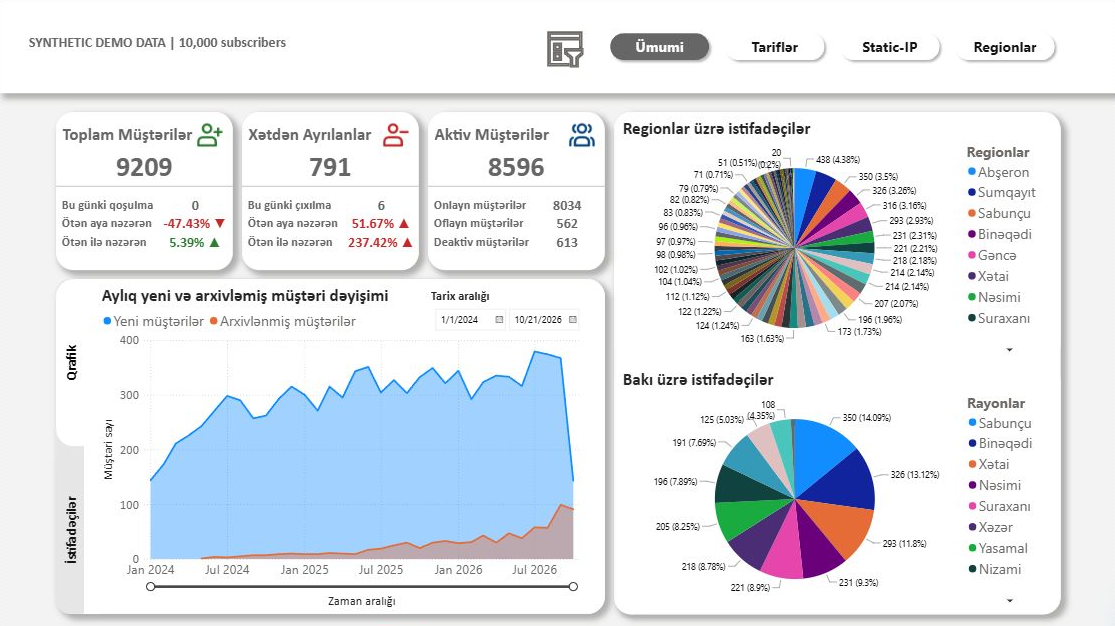

The dashboard page shown, as its layout file describes it:
{"tool":"powerbi","page":{"name":"Ümumi","canvas":[1920,1080],"ordinal":0},"visuals":[{"type":"group","id":"g1","title":"Ribbon","box":[0,0,1920,160],"z":0},{"type":"shape","box":[0,0,1920,160],"z":0,"group":"g1"},{"type":"shape","title":"Toplam Müştərilər","box":[96,192,304,272],"z":0,"group":"g3"},{"type":"shape","title":"Xətdən Ayrılanlar","box":[416,192,304,272],"z":0,"group":"g4"},{"type":"shape","title":"Aktiv Müştərilər","box":[736,192,304,272],"z":0,"group":"g8"},{"type":"shape","box":[1056,192,768,864],"z":0,"group":"g2"},{"type":"shape","box":[96,336,176,32],"z":0,"group":"g5"},{"type":"shape","box":[416,336,176,32],"z":0,"group":"g6"},{"type":"shape","box":[736,336,176,32],"z":0,"group":"g7"},{"type":"shape","box":[96,368,176,32],"z":0,"group":"g9"},{"type":"shape","box":[416,368,176,32],"z":0,"group":"g10"},{"type":"shape","box":[736,368,176,32],"z":0,"group":"g11"},{"type":"card","fields":{"Values":["Calendar.vs_last_year_KPI"]},"box":[272,400,128,32],"z":0,"group":"g12"},{"type":"card","fields":{"Values":["Calendar.vs_last_year_archive_KPI"]},"box":[592,400,128,32],"z":0,"group":"g13"},{"type":"shape","box":[736,400,176,32],"z":0,"group":"g14"},{"type":"lineChart","title":"Aylıq yeni və arxivləmiş müştəri dəyişimi","fields":{"Category":["Calendar.Date.Variation.Date Hierarchy.Year","Calendar.Date.Variation.Date Hierarchy.Month"],"Y":["Calendar.new_customers","Calendar.archived_users"]},"box":[160,480,880,576],"z":0,"group":"g15"},{"type":"pieChart","title":"Regionlar üzrə istifadəçilər","fields":{"Category":["butun_musteriler.combined_regions"],"Y":["Calendar.total_new_customers"]},"box":[1056,192,768,432],"z":1000,"group":"g2"},{"type":"group","id":"g2","title":"Regionlar","box":[1056,192,768,864],"z":1000},{"type":"shape","box":[96,304,304,32],"z":1000,"group":"g3"},{"type":"shape","box":[416,304,304,32],"z":1000,"group":"g4"},{"type":"shape","box":[736,304,304,32],"z":1000,"group":"g8"},{"type":"card","fields":{"Values":["Calendar.today_new_customer"]},"box":[272,336,128,32],"z":1000,"group":"g5"},{"type":"card","fields":{"Values":["Calendar.today_old_customer"]},"box":[592,336,128,32],"z":1000,"group":"g6"},{"type":"card","fields":{"Values":["Calendar.total_active_customers"]},"box":[912,336,128,32],"z":1000,"group":"g7"},{"type":"card","fields":{"Values":["Calendar.vs_last_month_KPI"]},"box":[272,368,128,32],"z":1000,"group":"g9"},{"type":"card","fields":{"Values":["Calendar.vs_last_month_archive_KPI"]},"box":[592,368,128,32],"z":1000,"group":"g10"},{"type":"card","fields":{"Values":["Calendar.total_active_customers"]},"box":[912,368,128,32],"z":1000,"group":"g11"},{"type":"shape","box":[96,400,176,32],"z":1000,"group":"g12"},{"type":"shape","box":[416,400,176,32],"z":1000,"group":"g13"},{"type":"card","fields":{"Values":["Calendar.total_deactive_customers"]},"box":[912,400,128,32],"z":1000,"group":"g14"},{"type":"slicer","title":"Tarix aralığı","fields":{"Values":["Calendar.Date"]},"box":[736,496,288,80],"z":1000,"group":"g15"},{"type":"actionButton","title":"Filter","box":[936,48,72,72],"z":2000,"group":"g1"},{"type":"group","id":"g3","title":"Toplam müştərilər","box":[96,192,304,272],"z":2000},{"type":"card","fields":{"Values":["Calendar.total_customers"]},"box":[160,256,176,64],"z":2000,"group":"g3"},{"type":"card","fields":{"Values":["Calendar.total_archived_customers"]},"box":[480,256,176,64],"z":2000,"group":"g4"},{"type":"card","fields":{"Values":["Calendar.total_active_customers"]},"box":[800,256,176,64],"z":2000,"group":"g8"},{"type":"pieChart","title":"Bakı üzrə istifadəçilər","fields":{"Category":["butun_musteriler.baku_regions"],"Y":["Calendar.total_new_customers"]},"box":[1056,624,768,432],"z":2000,"group":"g2"},{"type":"pageNavigator","box":[1040,48,784,64],"z":3000,"group":"g1"},{"type":"group","id":"g4","title":"Xətdən ayrılanlar","box":[416,192,304,272],"z":3000},{"type":"group","id":"g5","title":"Group 3","box":[96,336,304,32],"z":3000,"group":"g3"},{"type":"group","id":"g6","title":"Group 2","box":[416,336,304,32],"z":3000,"group":"g4"},{"type":"group","id":"g7","title":"Group 3","box":[736,336,304,32],"z":3000,"group":"g8"},{"type":"group","id":"g8","title":"Aktiv müştərilər","box":[736,192,304,272],"z":4000},{"type":"group","id":"g9","title":"Group 4","box":[96,368,304,32],"z":4000,"group":"g3"},{"type":"group","id":"g10","title":"Group 4","box":[416,368,304,32],"z":4000,"group":"g4"},{"type":"group","id":"g11","title":"Group 2","box":[736,368,304,32],"z":4000,"group":"g8"},{"type":"group","id":"g12","title":"Group 5","box":[96,400,304,32],"z":5000,"group":"g3"},{"type":"group","id":"g13","title":"Group 5","box":[416,400,304,32],"z":5000,"group":"g4"},{"type":"group","id":"g14","title":"Group 2","box":[736,400,304,32],"z":5000,"group":"g8"},{"type":"shape","title":"Background","box":[96,480,944,576],"z":5000},{"type":"image","box":[336,208,48,48],"z":6000,"group":"g3"},{"type":"image","box":[656,208,48,48],"z":6000,"group":"g4"},{"type":"image","box":[976,208,48,48],"z":6000,"group":"g8"},{"type":"shape","title":"center","box":[96,480,48,576],"z":8000},{"type":"shape","box":[144,480,32,576],"z":11000},{"type":"group","id":"g15","title":"Qrafik","box":[160,480,880,576],"z":12000},{"type":"bookmarkNavigator","box":[96,480,72,576],"z":15000},{"type":"shape","box":[144,480,24,576],"z":15501},{"type":"shape","box":[40,48,620,48],"z":90000}]}

Visuals, with their boxes in screenshot pixels (x1, y1, x2, y2), scaled from the page's 1920x1080 canvas onto the 1115x626 screenshot:
"Ribbon" group: left=0, top=0, right=1114, bottom=93
shape: left=0, top=0, right=1114, bottom=93
"Toplam Müştərilər" shape: left=56, top=111, right=232, bottom=269
"Xətdən Ayrılanlar" shape: left=242, top=111, right=418, bottom=269
"Aktiv Müştərilər" shape: left=427, top=111, right=604, bottom=269
shape: left=613, top=111, right=1059, bottom=612
shape: left=56, top=195, right=158, bottom=213
shape: left=242, top=195, right=344, bottom=213
shape: left=427, top=195, right=530, bottom=213
shape: left=56, top=213, right=158, bottom=232
shape: left=242, top=213, right=344, bottom=232
shape: left=427, top=213, right=530, bottom=232
card - Calendar.vs_last_year_KPI: left=158, top=232, right=232, bottom=250
card - Calendar.vs_last_year_archive_KPI: left=344, top=232, right=418, bottom=250
shape: left=427, top=232, right=530, bottom=250
"Aylıq yeni və arxivləmiş müştəri dəyişimi" lineChart: left=93, top=278, right=604, bottom=612
"Regionlar üzrə istifadəçilər" pieChart: left=613, top=111, right=1059, bottom=362
"Regionlar" group: left=613, top=111, right=1059, bottom=612
shape: left=56, top=176, right=232, bottom=195
shape: left=242, top=176, right=418, bottom=195
shape: left=427, top=176, right=604, bottom=195
card - Calendar.today_new_customer: left=158, top=195, right=232, bottom=213
card - Calendar.today_old_customer: left=344, top=195, right=418, bottom=213
card - Calendar.total_active_customers: left=530, top=195, right=604, bottom=213
card - Calendar.vs_last_month_KPI: left=158, top=213, right=232, bottom=232
card - Calendar.vs_last_month_archive_KPI: left=344, top=213, right=418, bottom=232
card - Calendar.total_active_customers: left=530, top=213, right=604, bottom=232
shape: left=56, top=232, right=158, bottom=250
shape: left=242, top=232, right=344, bottom=250
card - Calendar.total_deactive_customers: left=530, top=232, right=604, bottom=250
"Tarix aralığı" slicer: left=427, top=287, right=595, bottom=334
"Filter" actionButton: left=544, top=28, right=585, bottom=70
"Toplam müştərilər" group: left=56, top=111, right=232, bottom=269
card - Calendar.total_customers: left=93, top=148, right=195, bottom=185
card - Calendar.total_archived_customers: left=279, top=148, right=381, bottom=185
card - Calendar.total_active_customers: left=465, top=148, right=567, bottom=185
"Bakı üzrə istifadəçilər" pieChart: left=613, top=362, right=1059, bottom=612
pageNavigator: left=604, top=28, right=1059, bottom=65
"Xətdən ayrılanlar" group: left=242, top=111, right=418, bottom=269
"Group 3" group: left=56, top=195, right=232, bottom=213
"Group 2" group: left=242, top=195, right=418, bottom=213
"Group 3" group: left=427, top=195, right=604, bottom=213
"Aktiv müştərilər" group: left=427, top=111, right=604, bottom=269
"Group 4" group: left=56, top=213, right=232, bottom=232
"Group 4" group: left=242, top=213, right=418, bottom=232
"Group 2" group: left=427, top=213, right=604, bottom=232
"Group 5" group: left=56, top=232, right=232, bottom=250
"Group 5" group: left=242, top=232, right=418, bottom=250
"Group 2" group: left=427, top=232, right=604, bottom=250
"Background" shape: left=56, top=278, right=604, bottom=612
image: left=195, top=121, right=223, bottom=148
image: left=381, top=121, right=409, bottom=148
image: left=567, top=121, right=595, bottom=148
"center" shape: left=56, top=278, right=84, bottom=612
shape: left=84, top=278, right=102, bottom=612
"Qrafik" group: left=93, top=278, right=604, bottom=612
bookmarkNavigator: left=56, top=278, right=98, bottom=612
shape: left=84, top=278, right=98, bottom=612
shape: left=23, top=28, right=383, bottom=56
